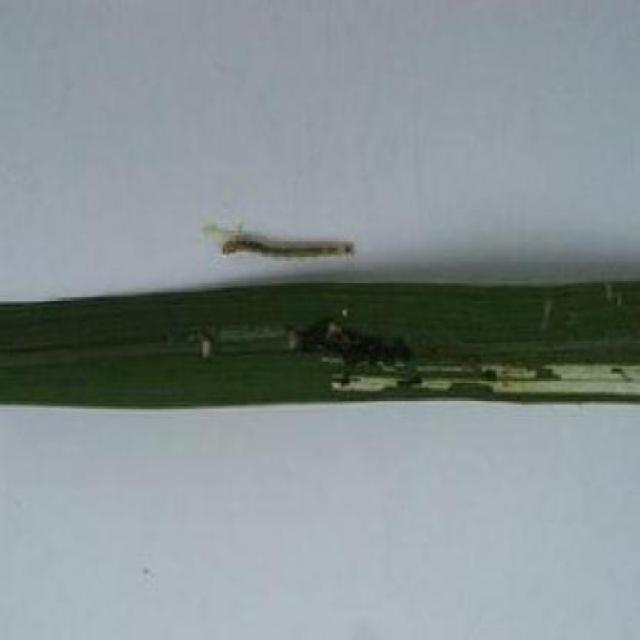leaf-folder: (208, 204, 366, 282)
